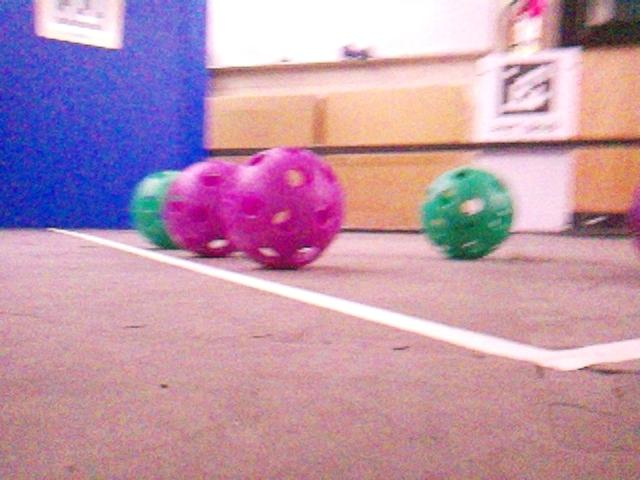Green: (417, 167, 513, 259), (128, 171, 183, 246)
Purple: (222, 147, 342, 266), (166, 161, 245, 258)
